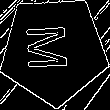M_E: (29, 26, 80, 75)
